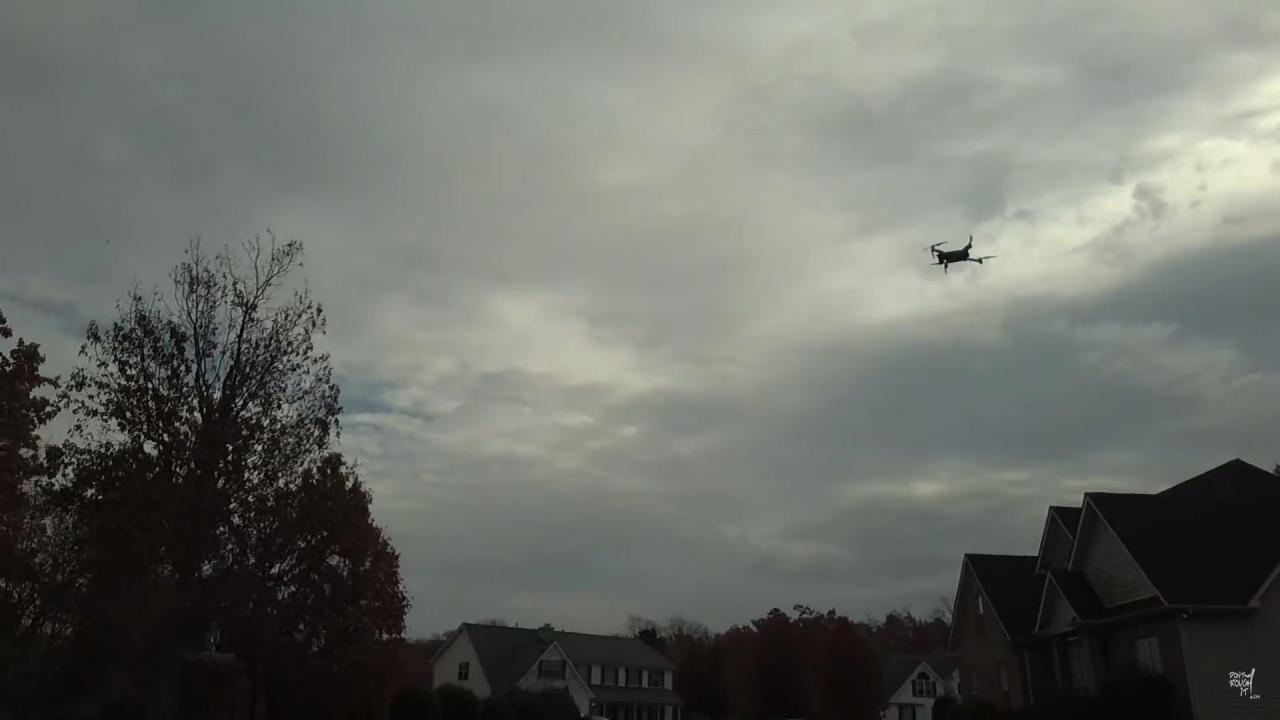Drone: (916, 229, 1004, 282)
